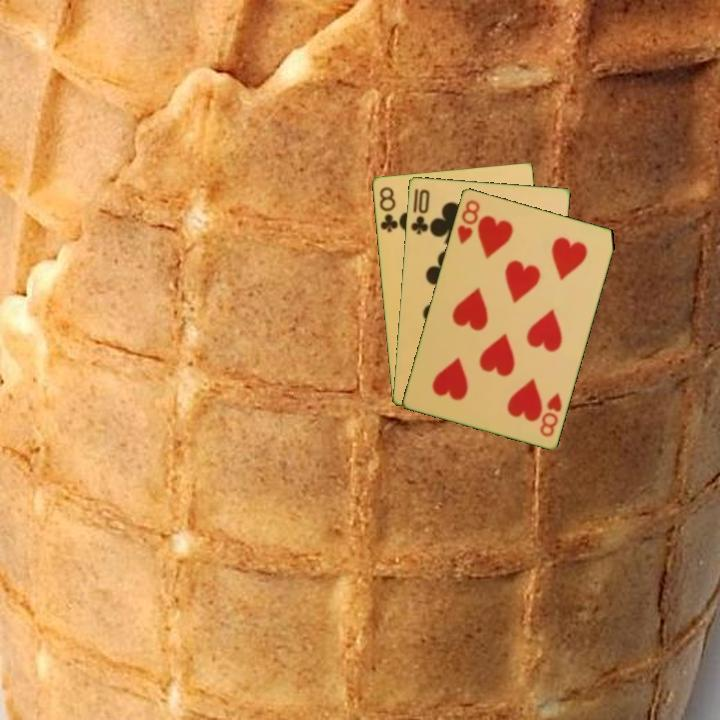10c: (407, 185, 432, 237)
8c: (375, 183, 401, 235)
8h: (453, 196, 483, 248), (536, 388, 565, 439)
